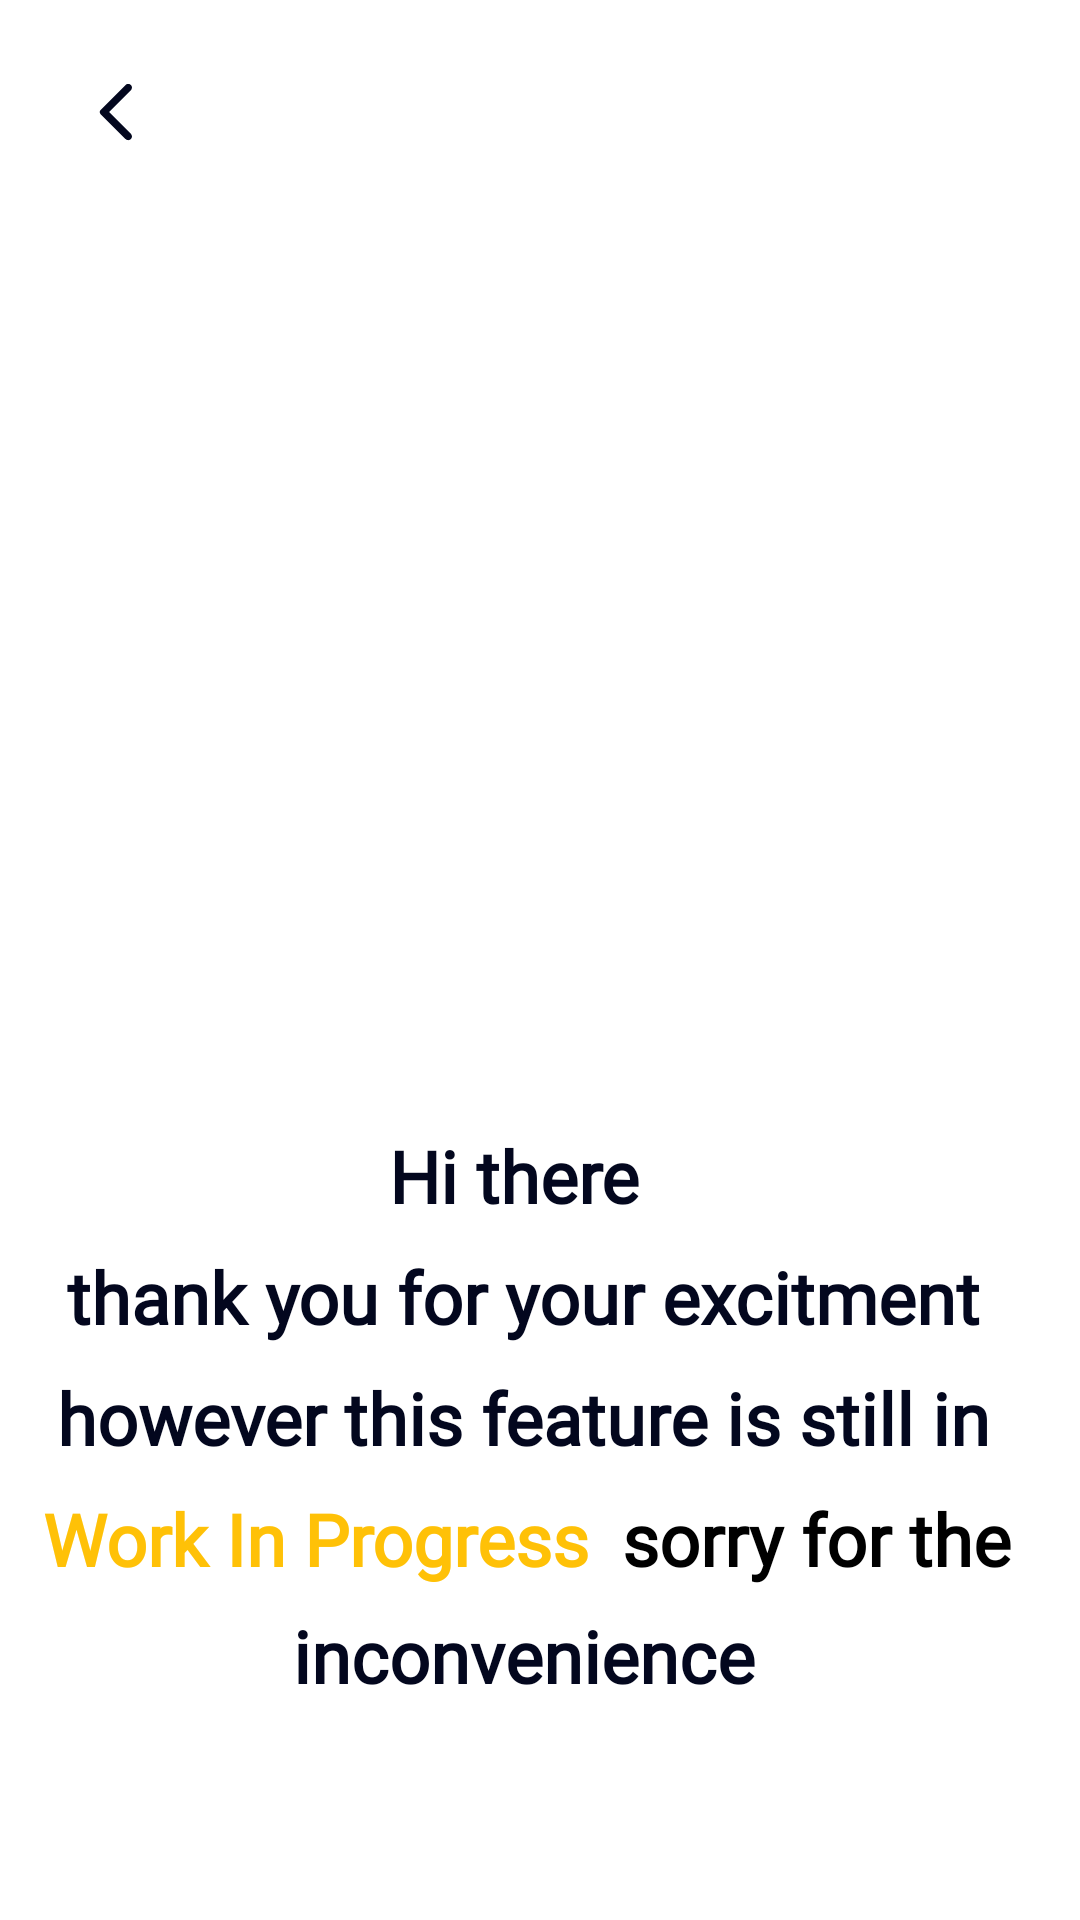

Screen size 1080px x 1920px. Icon name, then its box in pixels as (x1, y1, x2, y2):
back: (99, 84, 132, 141)
